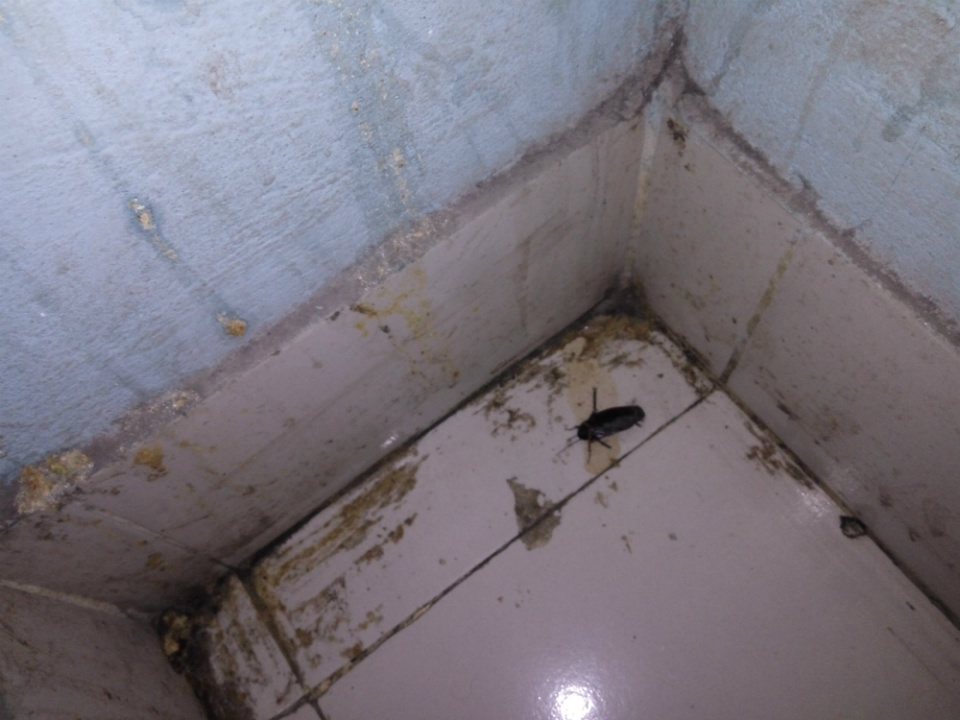cockroach: (522, 364, 714, 489)
